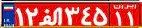character: (39, 5, 64, 28), (63, 4, 80, 28), (92, 4, 108, 28), (24, 5, 39, 28), (80, 4, 93, 28), (111, 10, 124, 28), (15, 6, 24, 28), (125, 10, 136, 28)
